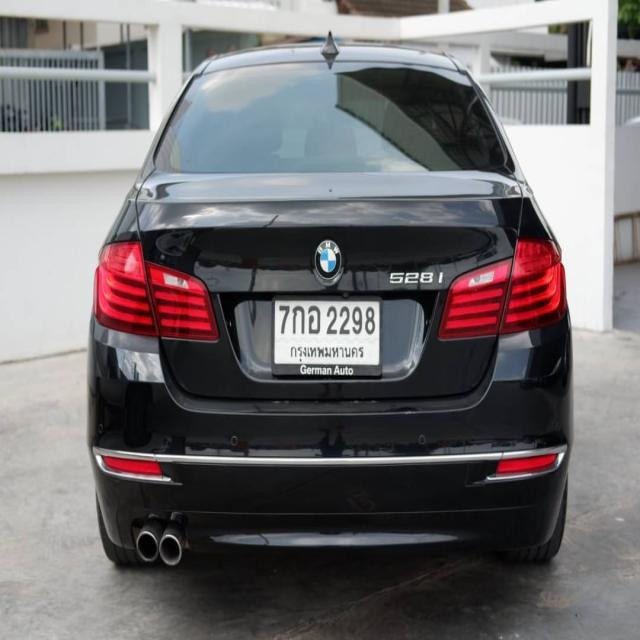license_plate: (272, 294, 382, 381)
